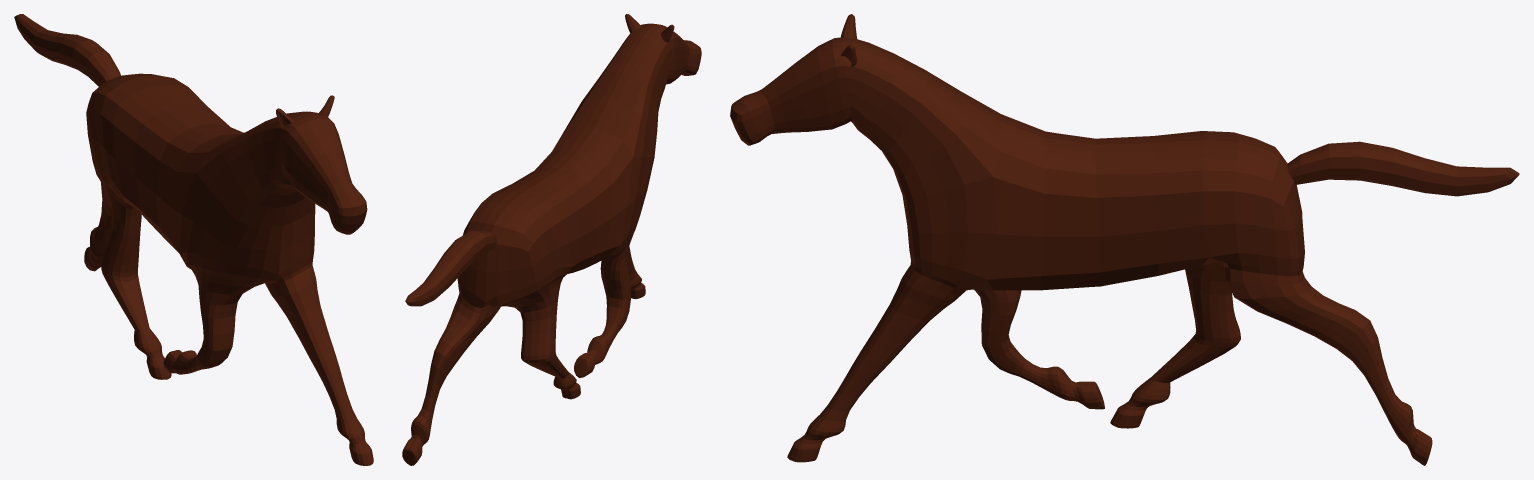
Rendered from horse.fbx.
3 views of the same model, side by side, from view 1: azimuth 30°, elevation 25°; view 2: azimuth 150°, elevation 25°; view 3: azimuth 270°, elevation 25° (orthographic). The views are drawn at different scales.
Parts seen in each view (by area): view 1: Cube; view 2: Cube; view 3: Cube.
Part boxes in pixels (bbox=[...]): Cube: bbox=[14, 14, 373, 465]; Cube: bbox=[402, 14, 701, 465]; Cube: bbox=[730, 14, 1519, 465].
Size of the model in its own units: 65.51 by 397 by 230.
